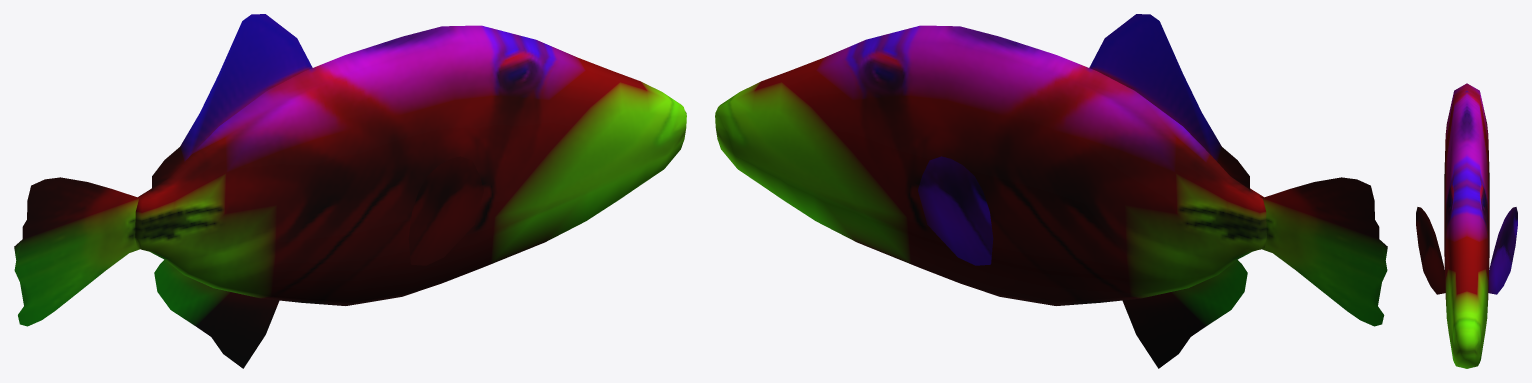
File: picasso_triggerfish.glb
3 renders of one model, left to right at view 1: azimuth 30°, elevation 25°; view 2: azimuth 150°, elevation 25°; view 3: azimuth 270°, elevation 25°, orthographic. The views are drawn at different scales.
Parts seen in each view (by area): view 1: PicassoTriggerfish; view 2: PicassoTriggerfish; view 3: PicassoTriggerfish.
Boxes of the visible parts, x1,y1,x2,y2 form: PicassoTriggerfish: (14,14,686,368); PicassoTriggerfish: (715,14,1387,368); PicassoTriggerfish: (1416,83,1517,368).
Bounding box in the file's own units: 1 × 0.5009 × 0.1666.
Materials: 1 (1 with a texture image).
